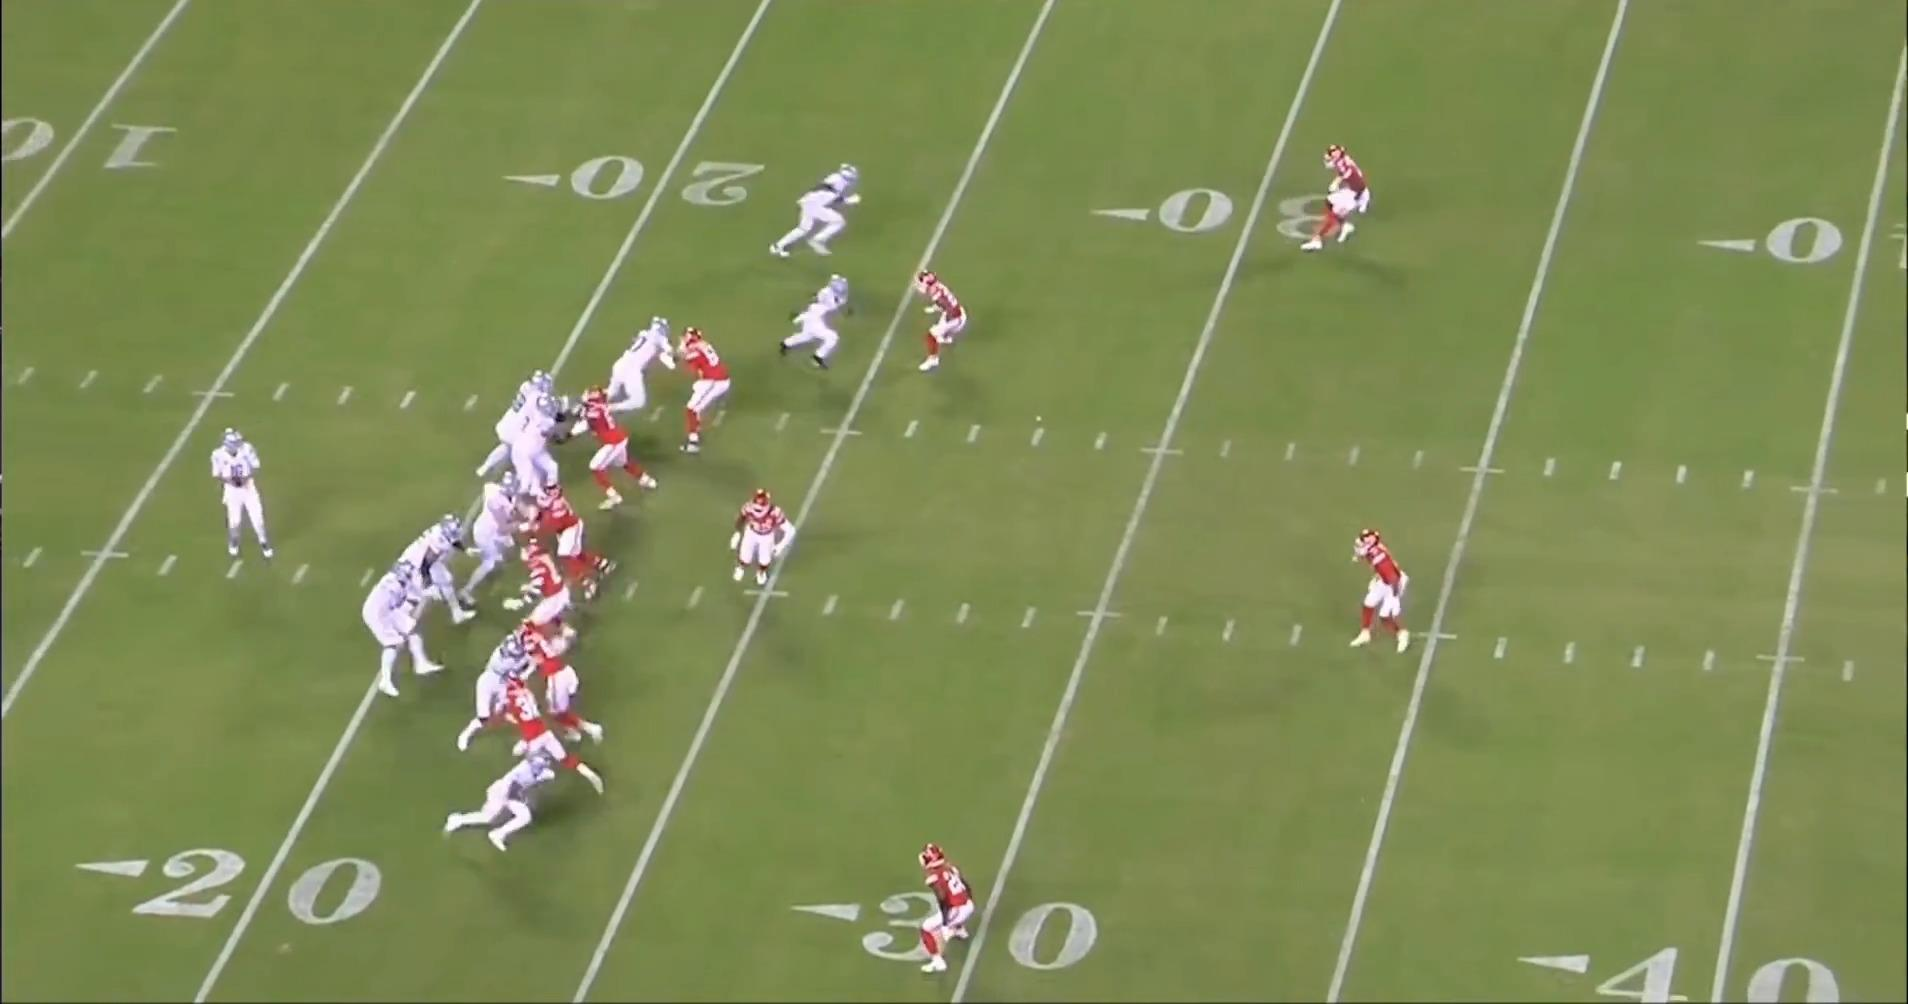defense: (483, 680, 607, 801), (570, 387, 668, 508), (509, 626, 602, 747), (519, 481, 612, 602), (907, 836, 975, 975), (727, 488, 805, 602), (1338, 526, 1406, 655), (502, 540, 577, 656), (679, 323, 743, 453), (1309, 144, 1377, 259), (917, 271, 980, 380)
oline: (360, 555, 440, 700), (462, 470, 540, 610), (400, 506, 477, 629), (477, 366, 554, 474), (512, 392, 562, 486)
qb: (199, 424, 278, 566)
skill: (445, 744, 570, 854), (456, 627, 546, 758), (771, 160, 869, 262), (776, 271, 863, 372), (591, 314, 674, 419)
